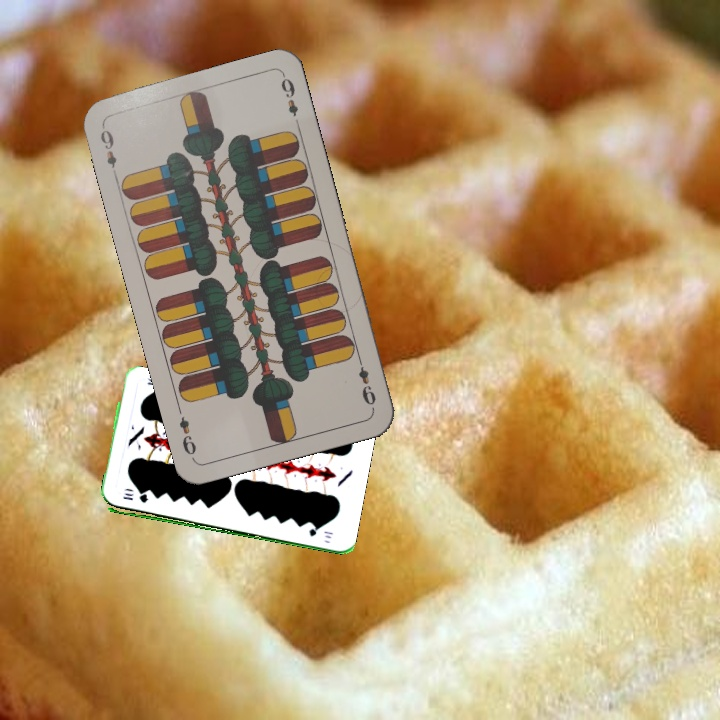E9: (353, 353, 379, 411), (96, 125, 120, 171)
G10: (119, 492, 151, 506)
